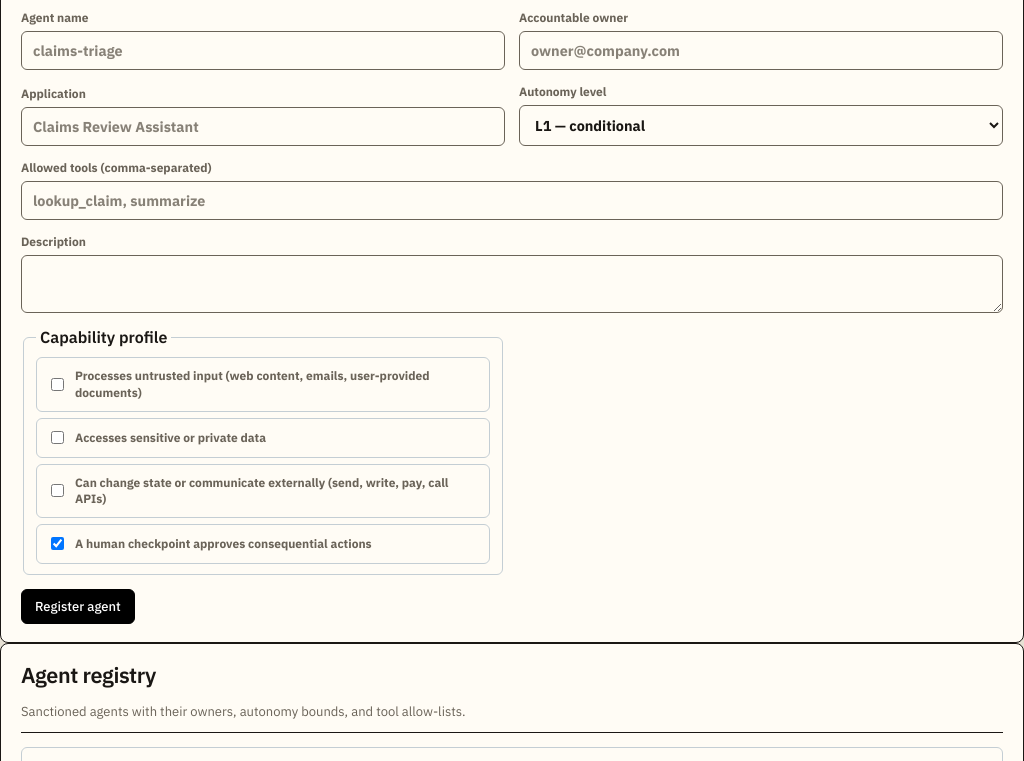
Scenario: AgentsView › warns inline when the registration profile forms the lethal trifecta
The width and height of the screenshot is (1024, 761).
(page scrolled)
Click the checkbox labelled "Processes untrusted input". click: [58, 384]
box: [51,378,64,390]
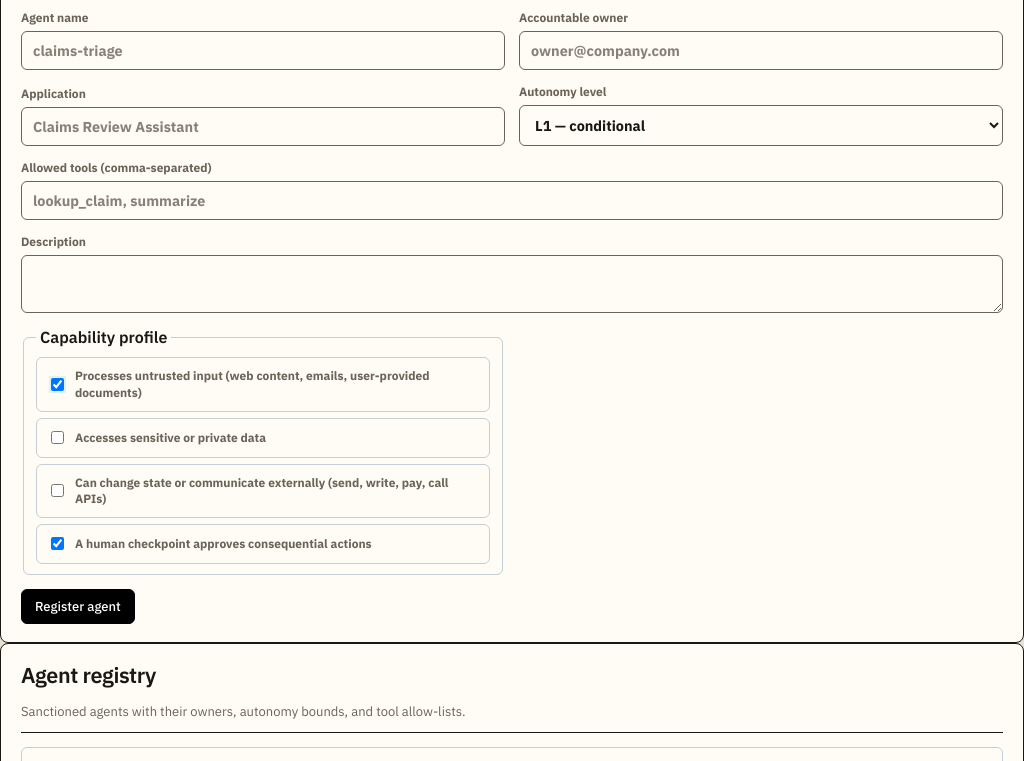
Click the checkbox labelled "Accesses sensitive or private data". click: [58, 437]
box: [51,431,64,444]
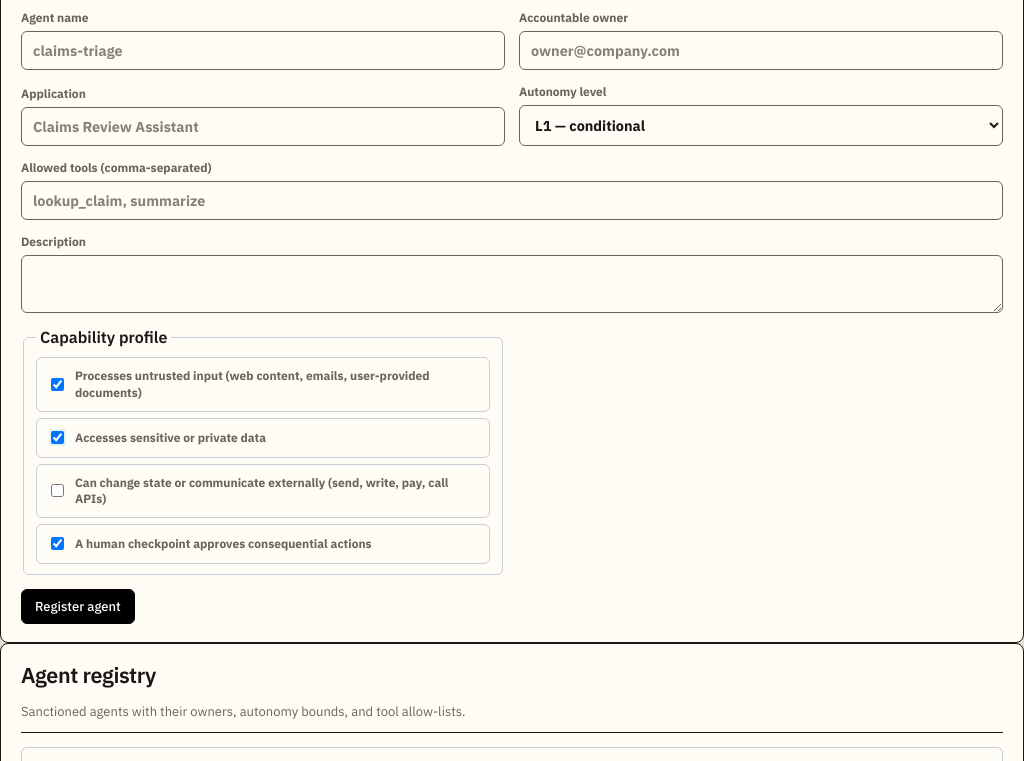
Click the checkbox labelled "Can change state". click: [58, 490]
box: [51,484,64,497]
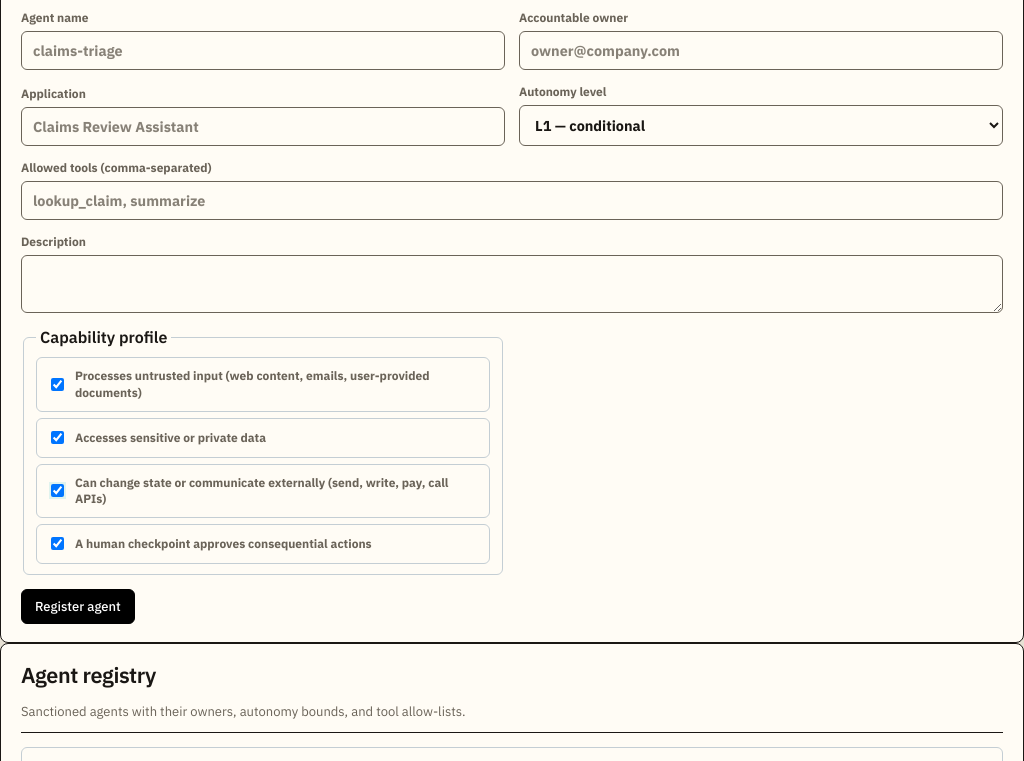
Click the checkbox labelled "A human checkpoint approves consequential actions". click: [58, 544]
box: [51,537,64,550]
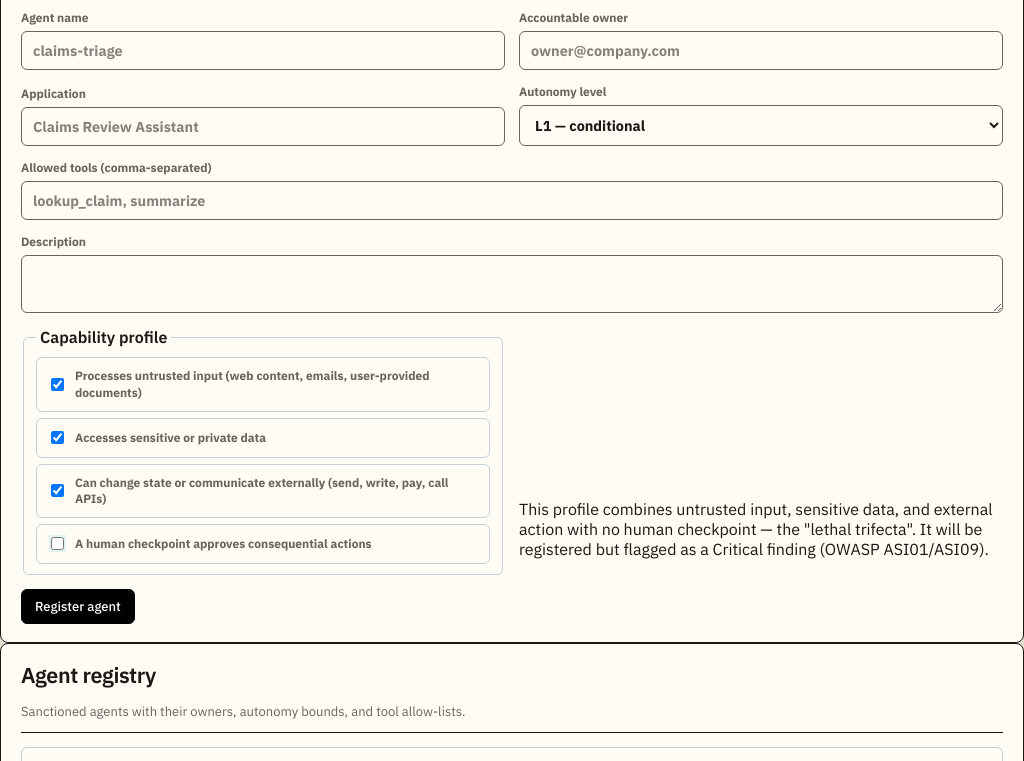
Expected: the message with test id "trifecta-warning" is shown, [519,499,1003,559]
